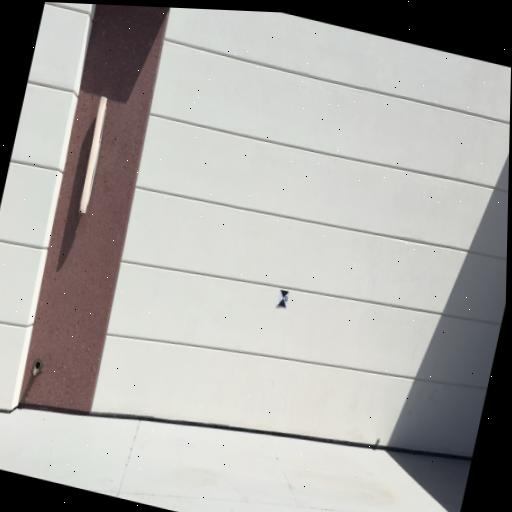target0: (277, 289, 290, 310)
